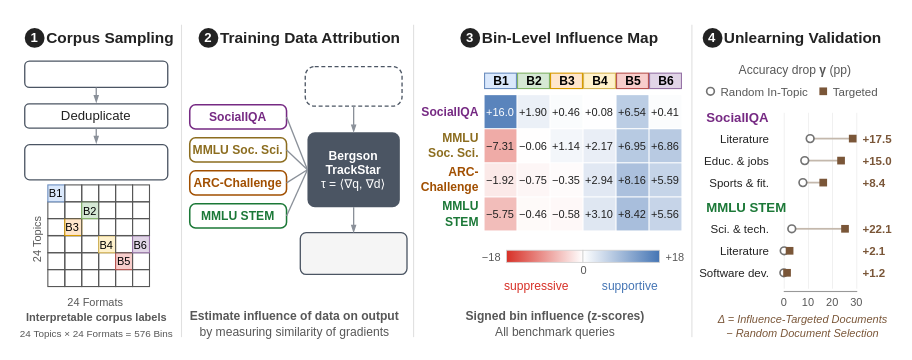
This 912x360 diagram has some shape labels left out. The shapes that lost their labels are listed below. From the top down, each one's centre as x and y in pixels, then its label:
the point at 96,74: Dolma3 Corpus
the point at 353,85: Corpus Sample
the point at 96,161: Bin by WebOrganizer: Topic × Format
the point at 353,253: Document Influence Scores
